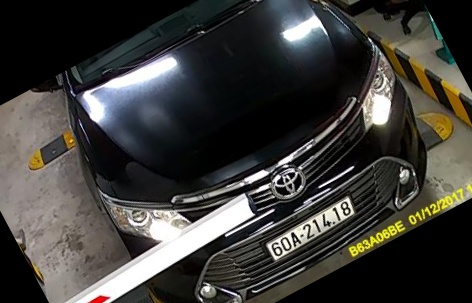plate: (261, 194, 350, 259)
